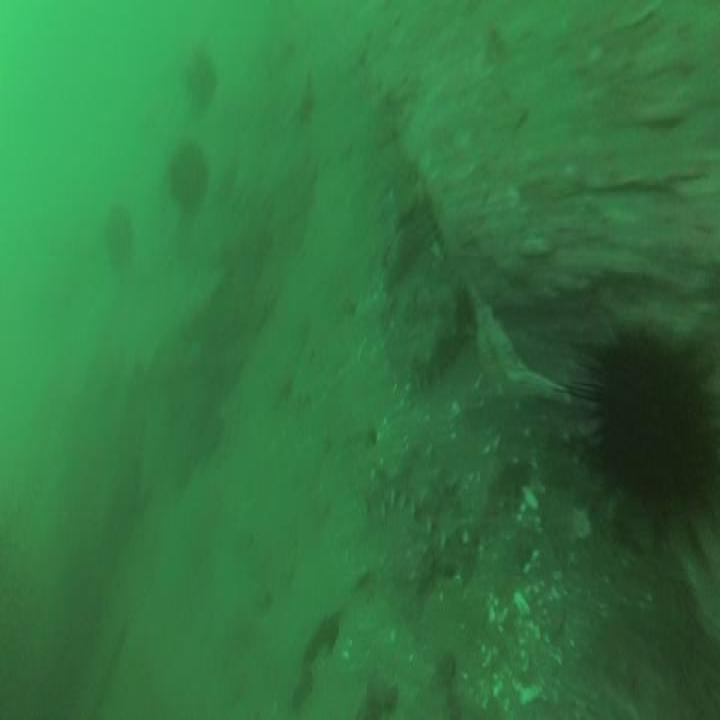echinus: (586, 314, 720, 524), (165, 133, 212, 219), (175, 46, 225, 116)
holothurian: (367, 430, 465, 569)
